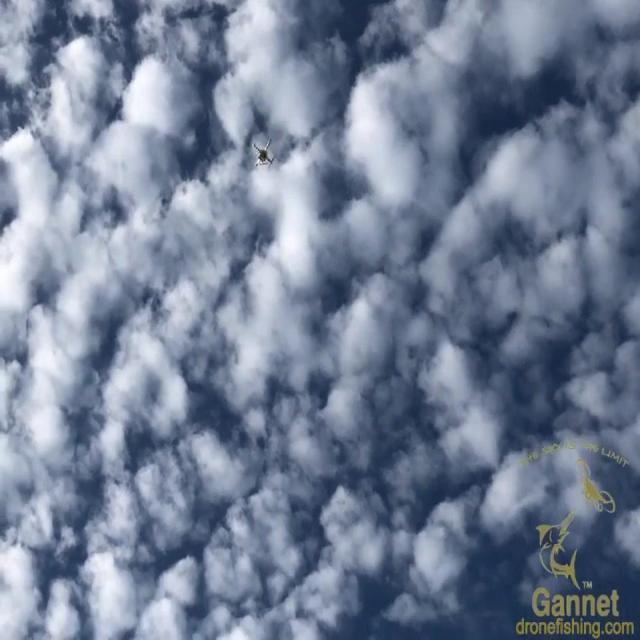UAV: (252, 136, 274, 166)
